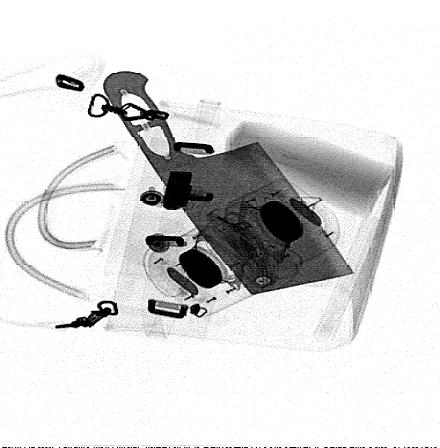Knife: (103, 70, 355, 296)
